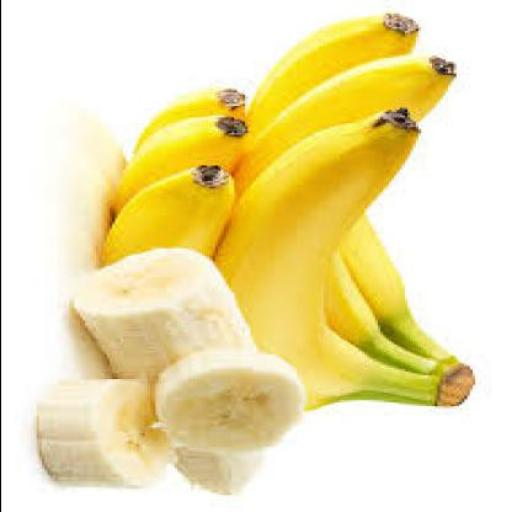biodegradable: (224, 52, 458, 402), (218, 106, 468, 399), (74, 244, 271, 493), (100, 164, 292, 310), (252, 11, 422, 164), (108, 116, 255, 229), (151, 346, 309, 448), (41, 375, 184, 485), (133, 87, 249, 173)
